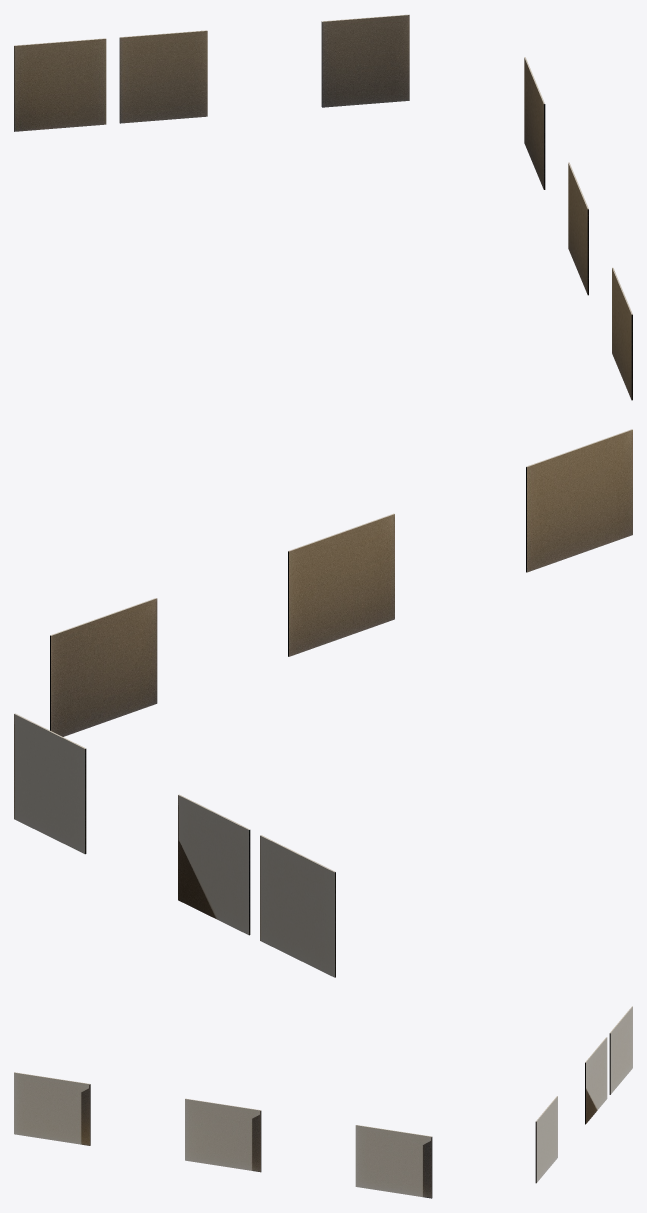
File: Building_05_App_06_Glass.fbx
3 views of the same model, one above another, from view 1: azimuth 30°, elevation 25°; view 2: azimuth 150°, elevation 25°; view 3: azimuth 270°, elevation 25° (orthographic). The views are drawn at different scales.
Visible parts, largest first — view 1: Building_05_App_06_Glass; view 2: Building_05_App_06_Glass; view 3: Building_05_App_06_Glass.
Part boxes in pixels (<box>): Building_05_App_06_Glass: <box>14,14,632,400</box>; Building_05_App_06_Glass: <box>14,429,632,977</box>; Building_05_App_06_Glass: <box>14,1006,632,1198</box>.
Size of the model in its own units: 6.28 by 1.38 by 12.59.
Materials: 1 (1 with a texture image).
